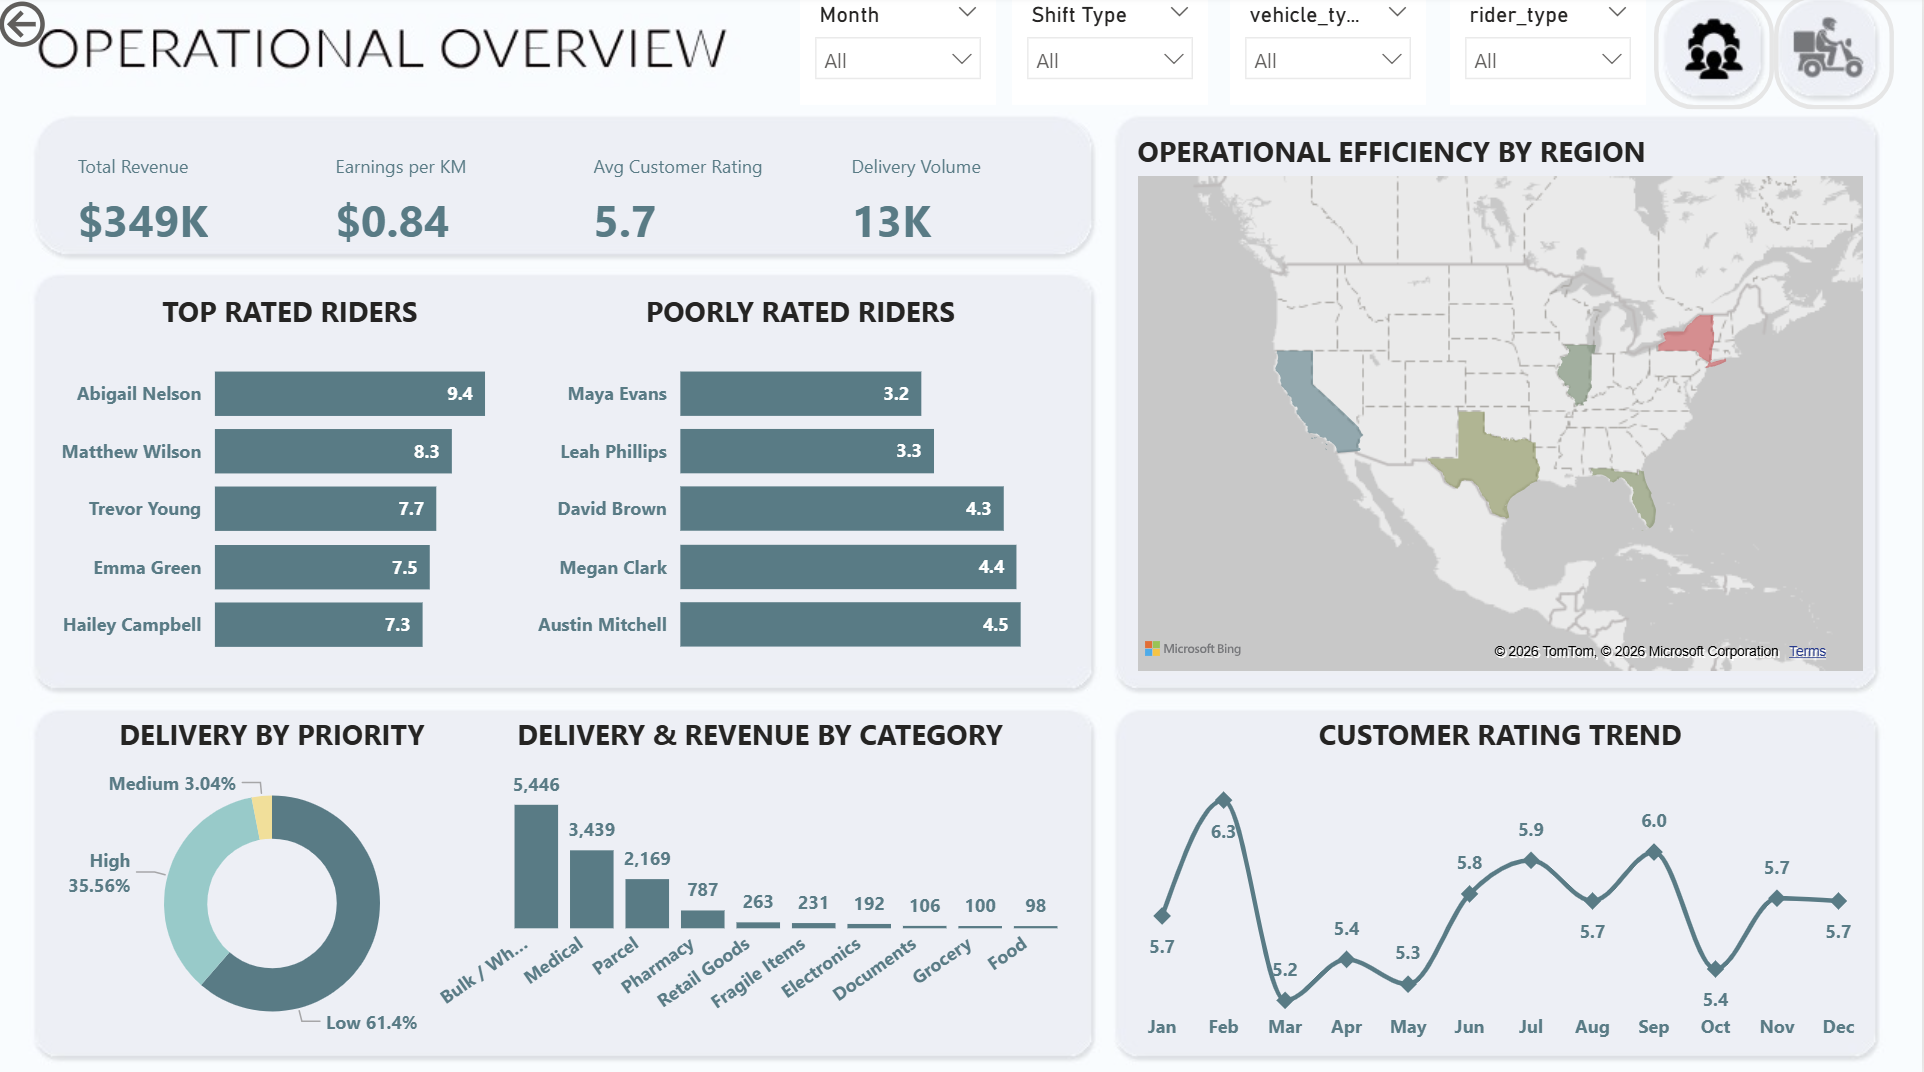

This screenshot's page, from the dashboard's own definition file:
{"tool":"powerbi","page":{"name":"OPERATIONAL REVIEW","canvas":[1280,720],"ordinal":0},"visuals":[{"type":"cardVisual","fields":{"Data":["DAX Measures.Total Revenue","DAX Measures.Earnings per KM","DAX Measures.Average Customer Rating","DAX Measures.Delivery Volume"]},"box":[39.8,55.7,686.9,163.1],"z":0},{"type":"barChart","title":"TOP RATED  RIDERS","fields":{"Y":["DAX Measures.Overall Rider Rating"],"Category":["riders.rider_name"]},"box":[39.8,197.6,315.6,255.9],"z":1000},{"type":"barChart","title":"POORLY RATED RIDERS","fields":{"Category":["riders.rider_name"],"Y":["DAX Measures.Overall Rider Rating"]},"box":[355.2,197.5,361.3,255.7],"z":2000},{"type":"filledMap","title":"OPERATIONAL EFFICIENCY BY REGION","fields":{"Category":["regions.state"]},"box":[754.8,91.9,491.5,361.3],"z":3000},{"type":"donutChart","title":"DELIVERY BY PRIORITY","fields":{"Category":["delivery_category.priority_level"],"Y":["DAX Measures.Delivery Volume"]},"box":[27.8,477.3,315.6,225.4],"z":4000},{"type":"columnChart","title":"DELIVERY & REVENUE BY CATEGORY","fields":{"Category":["delivery_category.delivery_category"],"Y":["DAX Measures.Delivery Volume"]},"box":[291.7,477.3,434.9,225.4],"z":5000},{"type":"lineChart","title":"CUSTOMER RATING TREND","fields":{"Category":["Calendar Table.Month"],"Y":["DAX Measures.Average Customer Rating"]},"box":[755,477,491,225],"z":6000},{"type":"slicer","fields":{"Values":["Calendar Table.Month"]},"box":[535.9,0,130.1,73.5],"z":7000},{"type":"slicer","fields":{"Values":["rider_performance.shift_time"]},"box":[676.7,0,130.1,73.5],"z":8000},{"type":"slicer","fields":{"Values":["vehicles.vehicle_type"]},"box":[820.7,0,130.1,73.5],"z":9000},{"type":"slicer","fields":{"Values":["riders.rider_type"]},"box":[966.1,0,130.1,73.5],"z":10000},{"type":"actionButton","box":[1102.4,0,79.6,76.6],"z":11000},{"type":"actionButton","box":[1182,0,79.6,76.6],"z":12000},{"type":"actionButton","box":[0,0,100,40],"z":13000}]}

Visuals, with their boxes in screenshot pixels (x1, y1, x2, y2), scaled from the page's 1280x720 canvas onto the 1924x1072 screenshot:
cardVisual - DAX Measures.Total Revenue x DAX Measures.Earnings per KM: bbox=[60, 83, 1092, 326]
"TOP RATED  RIDERS" barChart: bbox=[60, 294, 534, 675]
"POORLY RATED RIDERS" barChart: bbox=[534, 294, 1077, 675]
"OPERATIONAL EFFICIENCY BY REGION" filledMap: bbox=[1135, 137, 1873, 675]
"DELIVERY BY PRIORITY" donutChart: bbox=[42, 711, 516, 1046]
"DELIVERY & REVENUE BY CATEGORY" columnChart: bbox=[438, 711, 1092, 1046]
"CUSTOMER RATING TREND" lineChart: bbox=[1135, 710, 1873, 1045]
slicer - Calendar Table.Month: bbox=[806, 0, 1001, 109]
slicer - rider_performance.shift_time: bbox=[1017, 0, 1213, 109]
slicer - vehicles.vehicle_type: bbox=[1234, 0, 1429, 109]
slicer - riders.rider_type: bbox=[1452, 0, 1648, 109]
actionButton: bbox=[1657, 0, 1777, 114]
actionButton: bbox=[1777, 0, 1896, 114]
actionButton: bbox=[0, 0, 150, 60]
